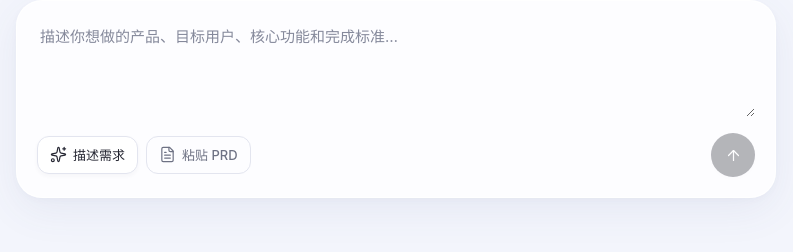
Test: CreateProjectForm › uses native field validation for requirements shorter than 20 characters
This screenshot has width=793, height=252.
In the text box named "描述产品需求": (396, 69) left=37, top=21, right=755, bottom=117, type "需求太短"
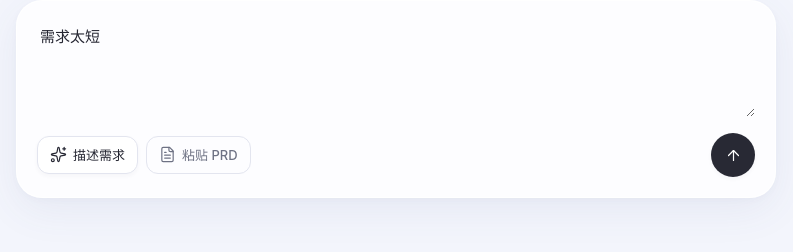
Click the button named "发送并开始分析": (733, 155) left=711, top=133, right=755, bottom=177
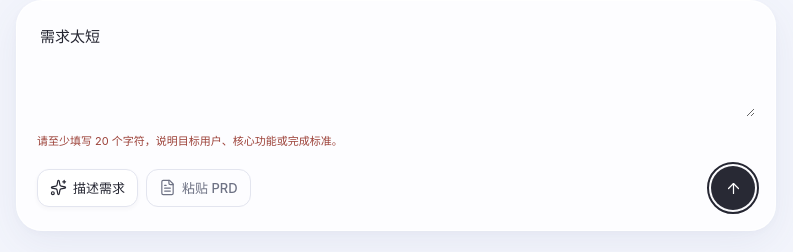
Expected: the message shows "请至少填写 20 个字符", left=37, top=134, right=343, bottom=148
